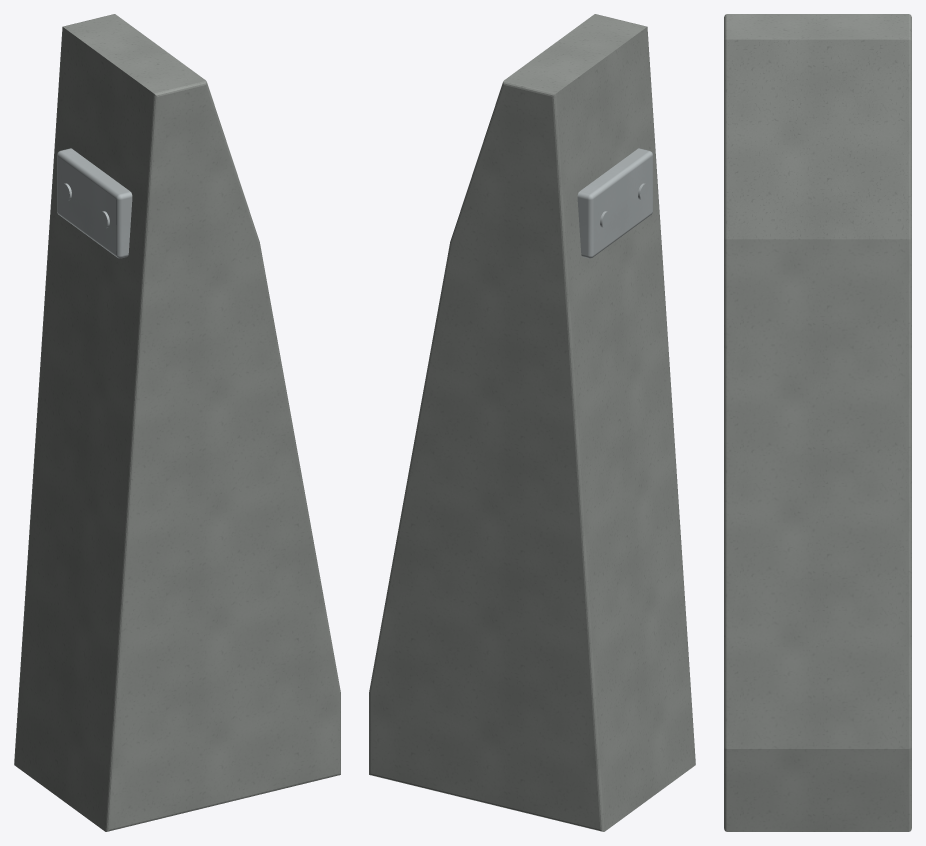
Rendered from gorgehold-survivor-gallery-and-operations-gallery-rock-2271330b__32868.glb.
3 renders of one model, left to right at view 1: azimuth 30°, elevation 25°; view 2: azimuth 150°, elevation 25°; view 3: azimuth 270°, elevation 25°, orthographic.
Parts seen in each view (by area): view 1: gallery-rock-anchor-buttress; view 2: gallery-rock-anchor-buttress; view 3: gallery-rock-anchor-buttress.
Boxes of the visible parts, left/top/right/bottom form: gallery-rock-anchor-buttress: left=14, top=14, right=340, bottom=831; gallery-rock-anchor-buttress: left=369, top=14, right=695, bottom=831; gallery-rock-anchor-buttress: left=724, top=14, right=911, bottom=831.
Bounding box in the file's own units: 1.07 × 3.17 × 0.7439.
2 materials, 2 textured.
